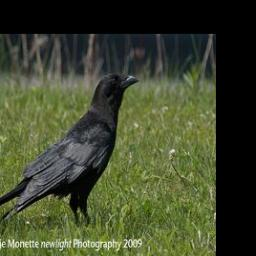Crow: (0, 72, 140, 230)
